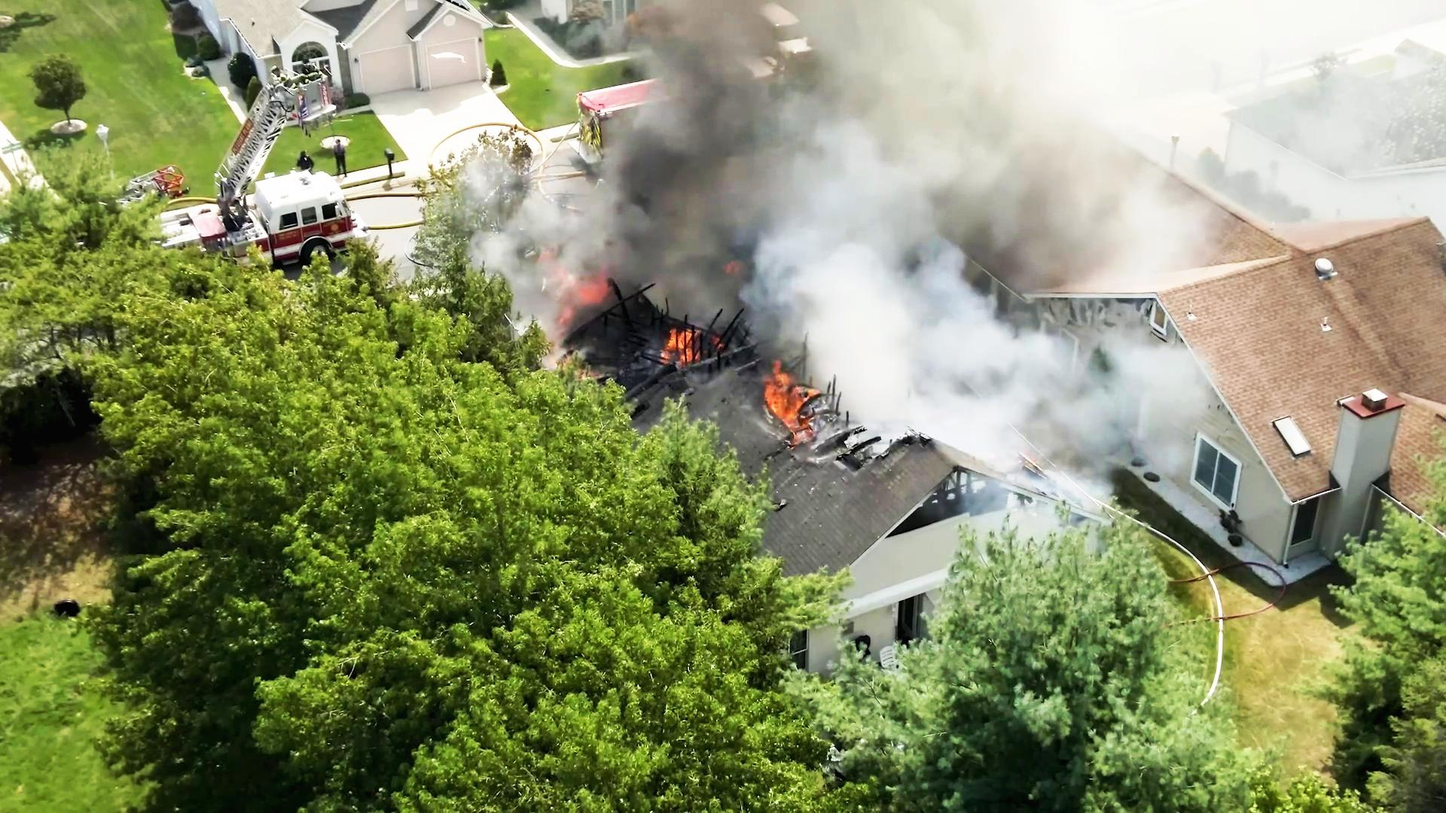smoke: (767, 115, 957, 354)
